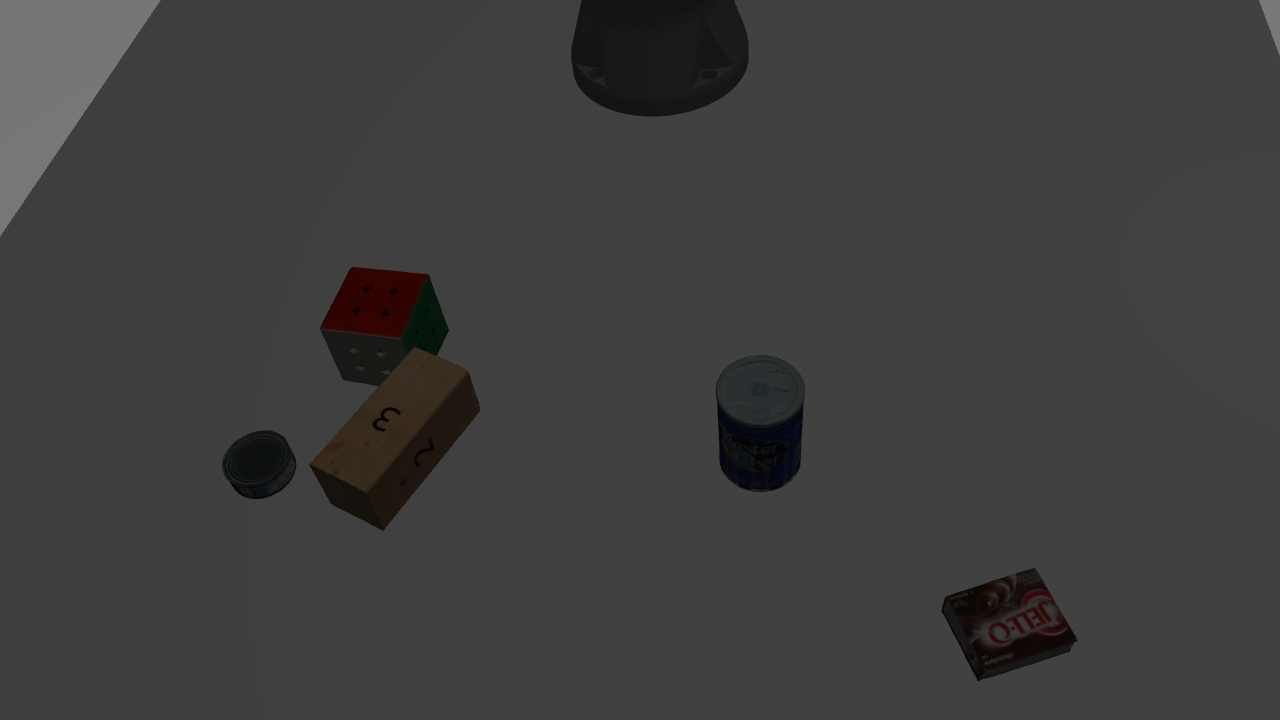master_chef_can: (708, 347, 815, 498)
pudding_box: (938, 564, 1078, 681)
rubiks_cube: (319, 260, 456, 392)
tuna_fish_can: (214, 427, 303, 507)
wood_block: (308, 342, 484, 530)
